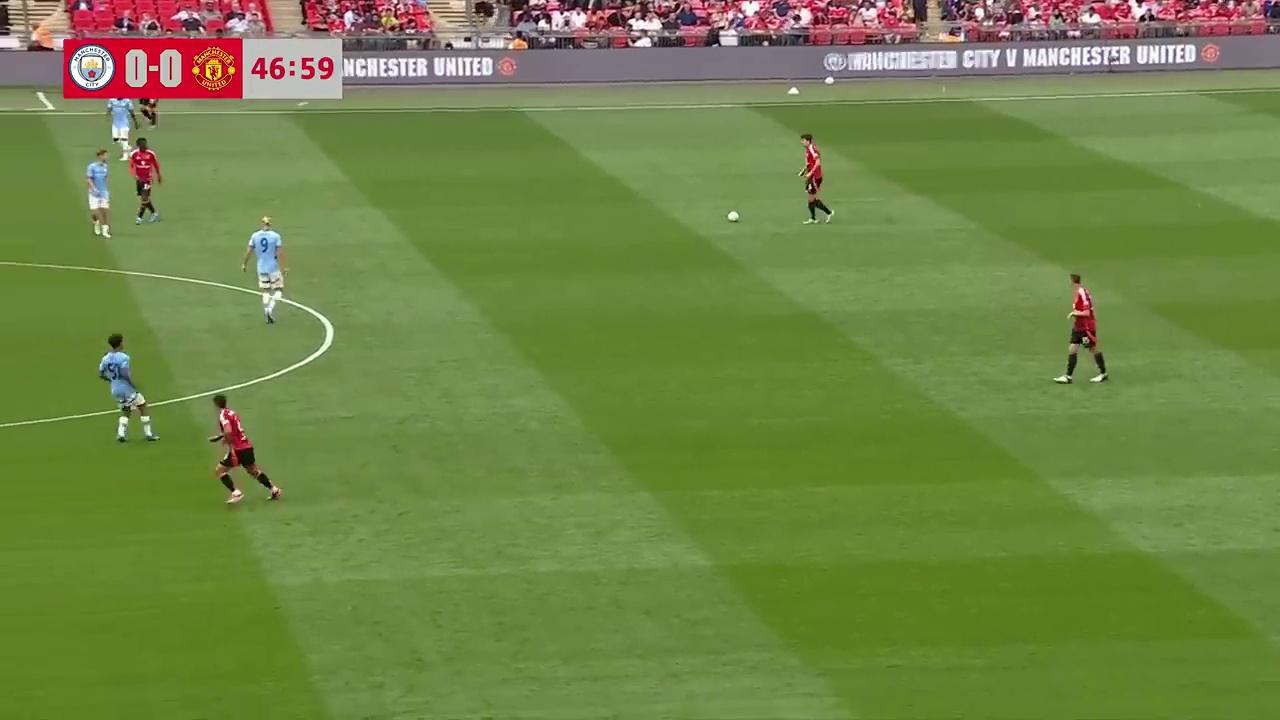ball: (725, 207, 740, 223)
player: (208, 395, 283, 505), (98, 334, 158, 444), (1059, 273, 1109, 384), (241, 215, 285, 325), (792, 130, 833, 223), (128, 136, 162, 225), (85, 148, 112, 238), (104, 94, 135, 157), (137, 90, 160, 128)
